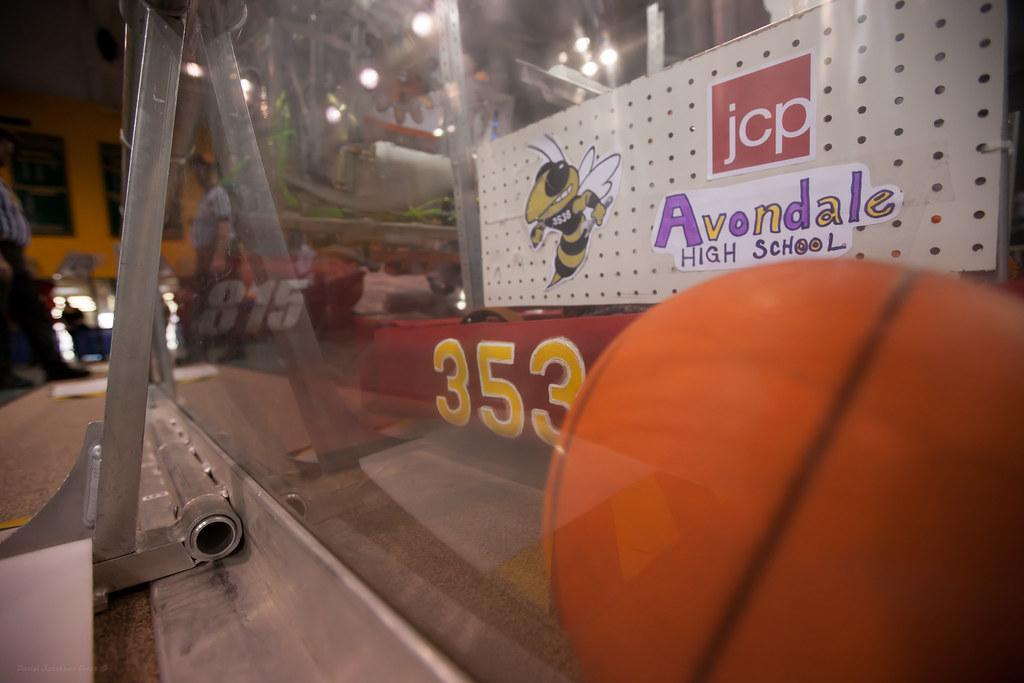robot: (366, 0, 1024, 449)
